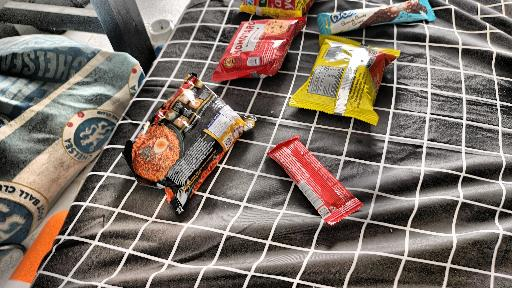chocho: (271, 129, 367, 235)
mie sedap: (81, 102, 255, 200)
